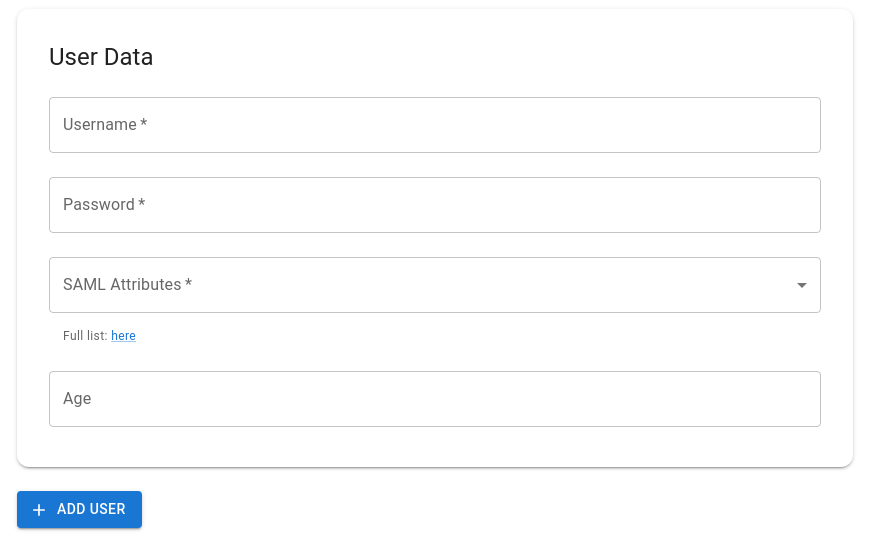
Test: AddOrUpdateUser › toggles password visibility
The width and height of the screenshot is (871, 548).
Type "password123" into the field labelled "Password *" at (435, 205), box [49,177,821,233]
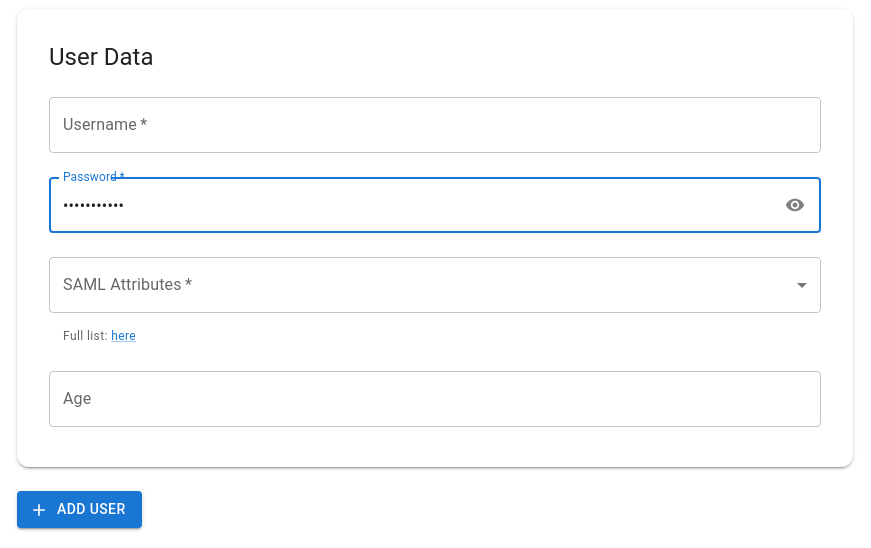
Now the icon with test id "VisibilityOnIcon" is shown, box [785,195,805,215]
Click the button named "toggle password visibility" at (795, 205), box [780,190,810,220]
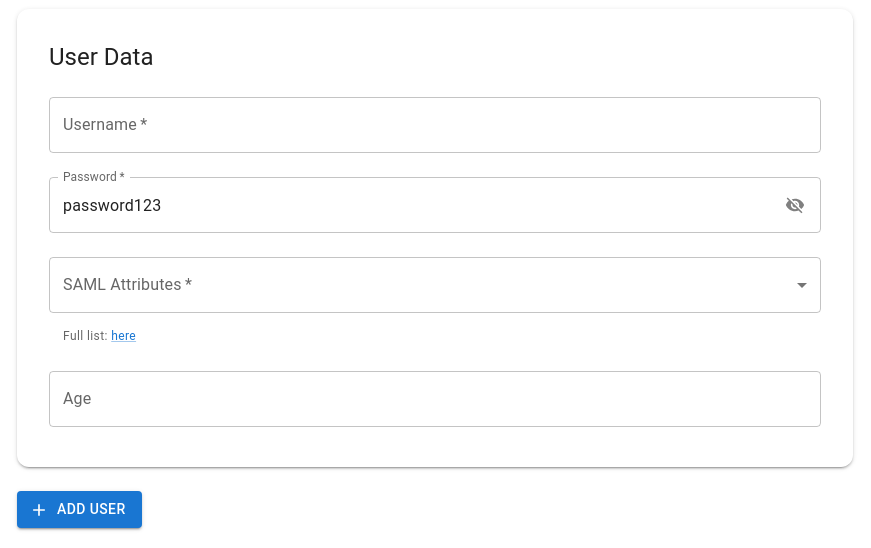
Now the icon with test id "VisibilityOffIcon" is shown, box [785,195,805,215]
Click the button named "toggle password visibility" at (795, 205), box [780,190,810,220]
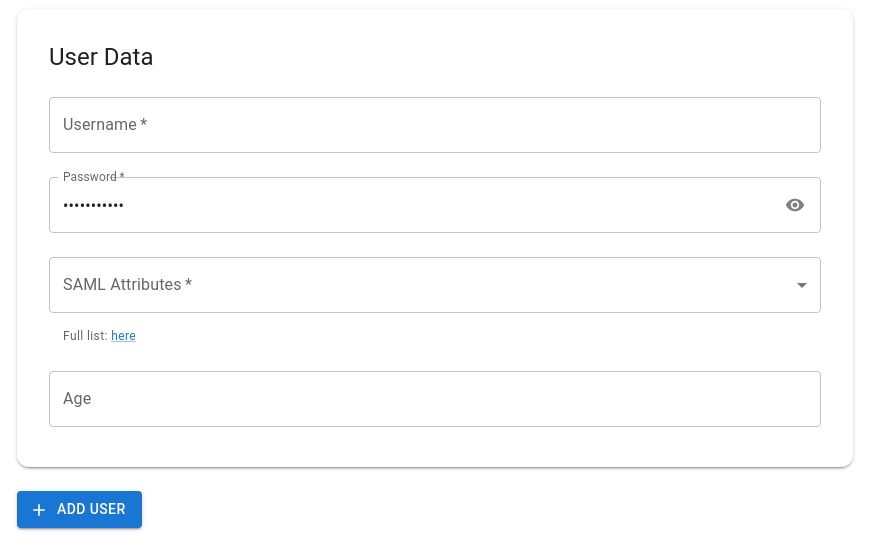
Now the icon with test id "VisibilityOnIcon" is shown, box [785,195,805,215]
